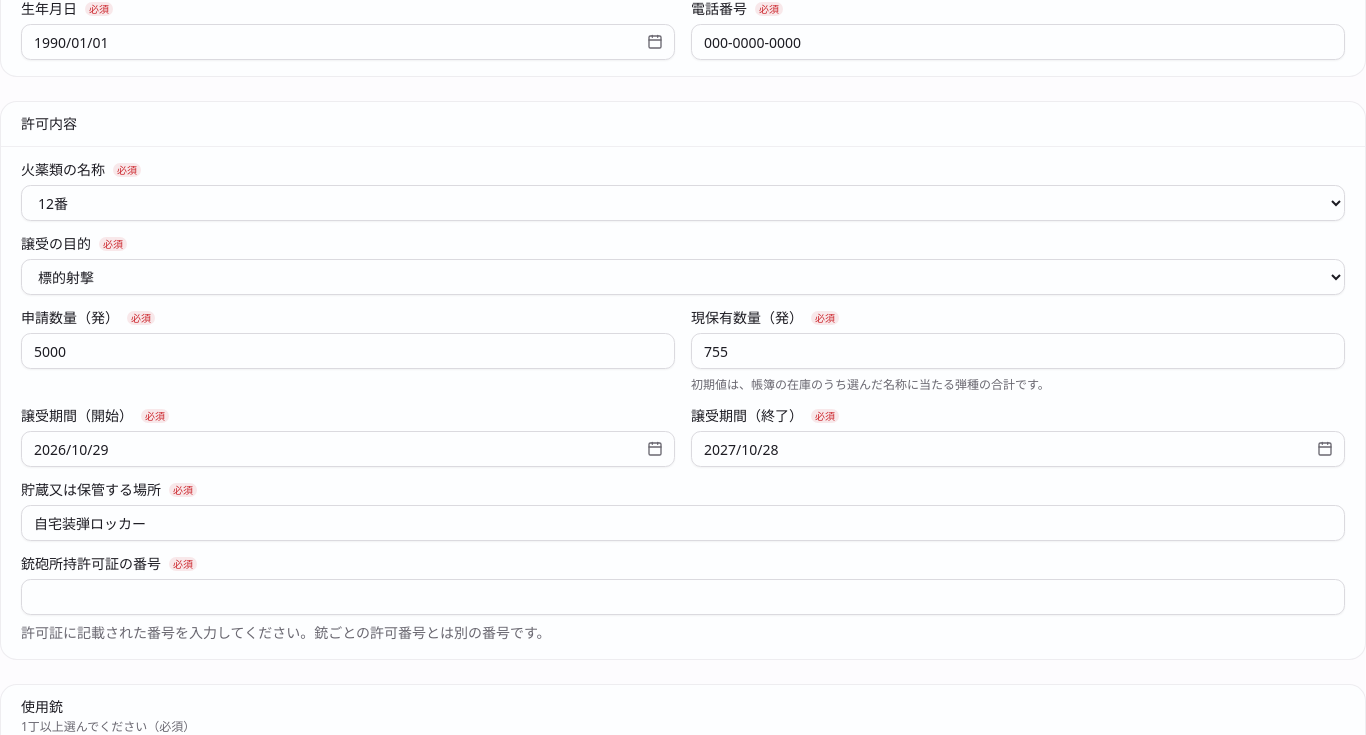
Test: 譲受許可申請の入力から印刷への引き継ぎ › 許可証番号が未入力なら、選択した銃の番号で埋めずに入力を求める
The image size is (1366, 735).
(page scrolled)
Replace the text in the number field labelled "申請数量（発）" with "500". click: (348, 351)
box: x1=21 y1=333 x2=675 y2=369
(page scrolled)
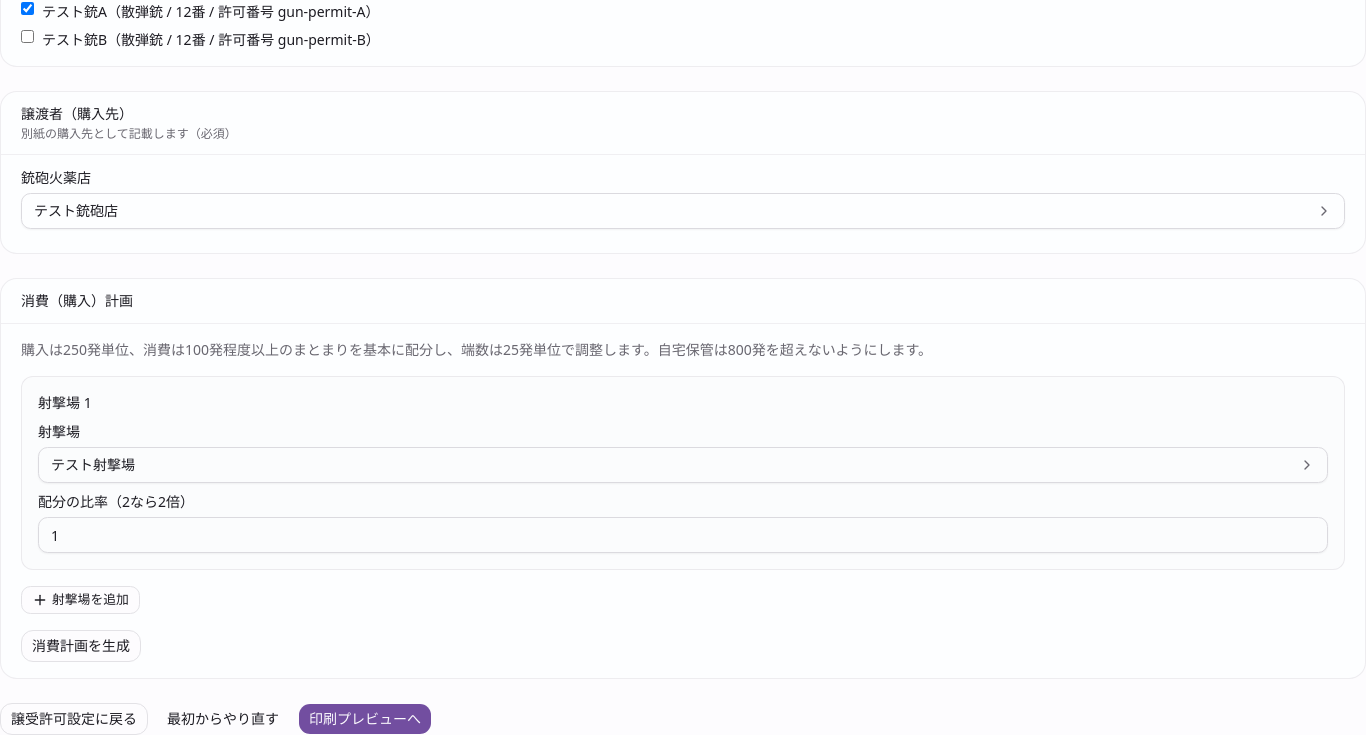
Click the button "消費計画を生成". click: (81, 646)
box: x1=21 y1=630 x2=141 y2=662
(page scrolled)
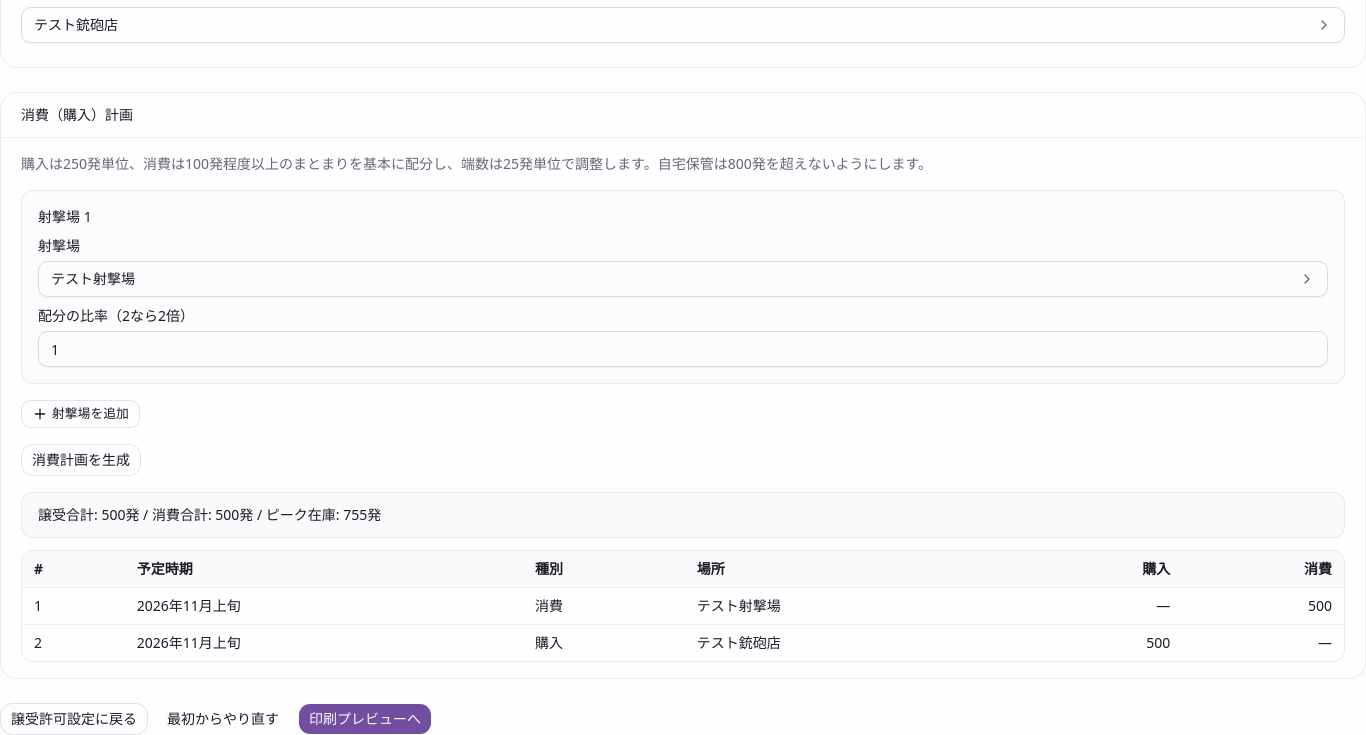
Click the button "印刷プレビューへ". click: (365, 719)
box: x1=298 y1=703 x2=432 y2=734
(page scrolled)
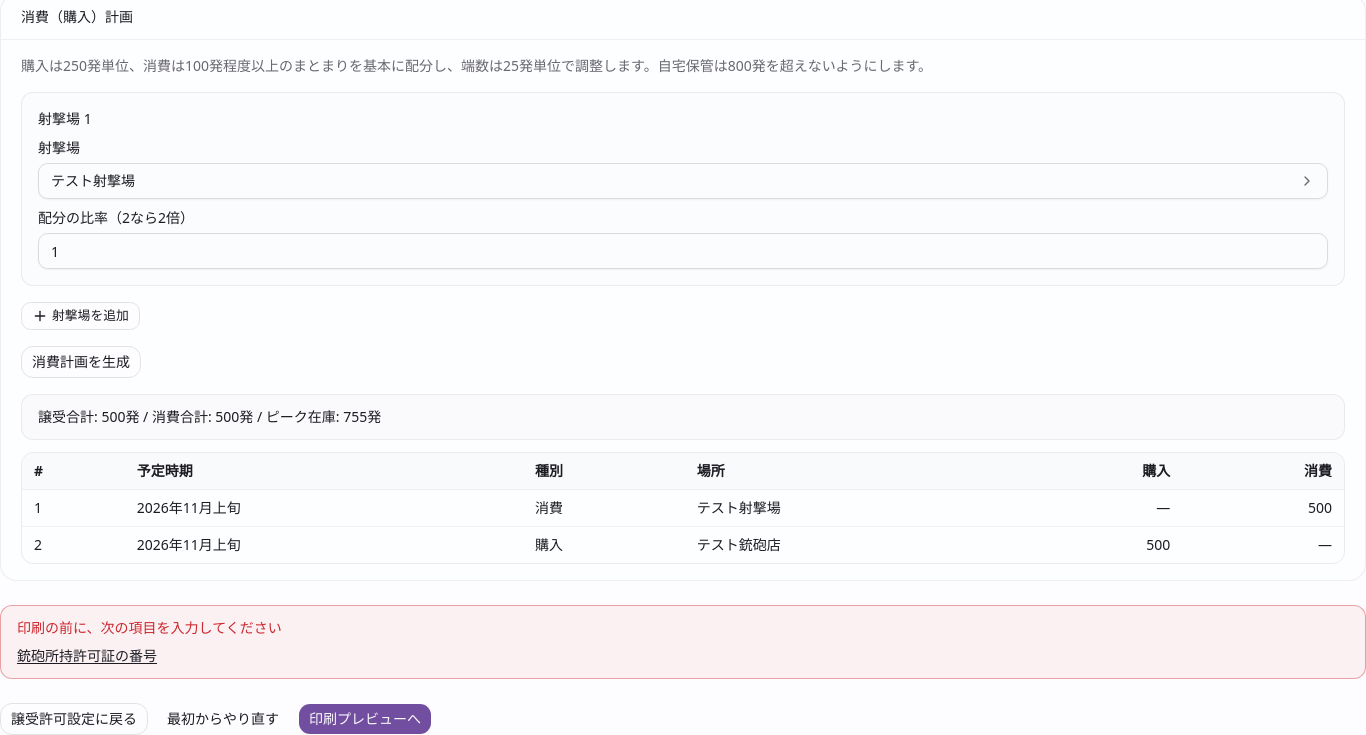
Expected: the button "銃砲所持許可証の番号" is shown, x1=17 y1=646 x2=157 y2=666
